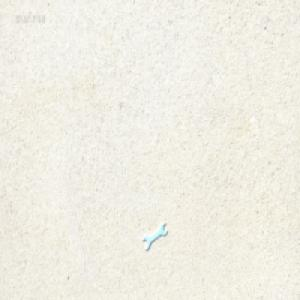Wrench: (142, 223, 167, 251)
